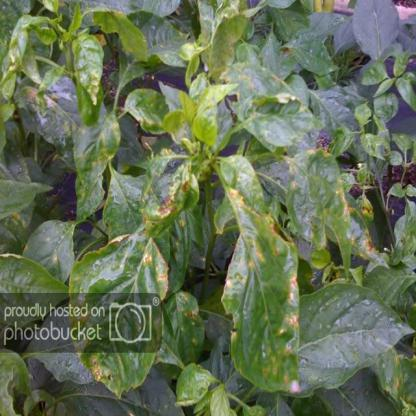bell pepper leaf spot: (216, 146, 303, 398), (68, 231, 168, 404), (287, 148, 354, 279), (143, 152, 202, 243), (70, 32, 109, 107)
